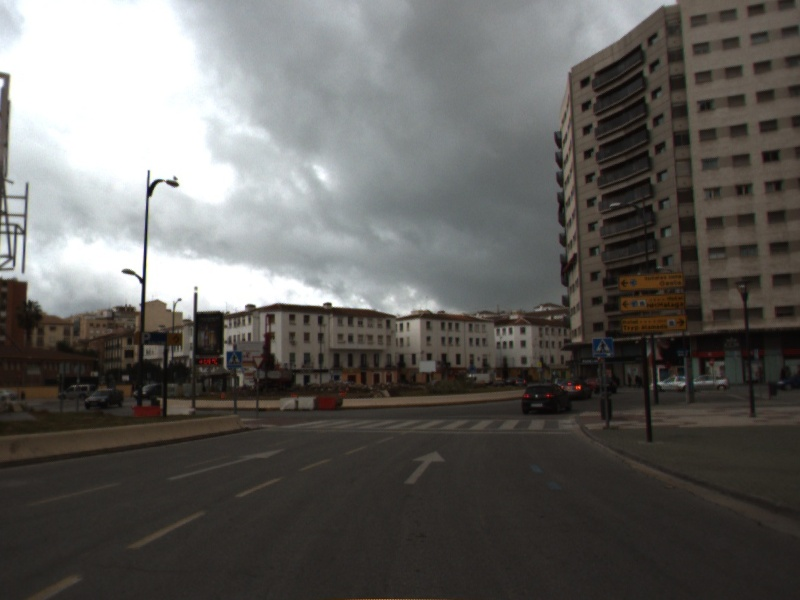STRAIGHT: (164, 447, 287, 483), (401, 448, 448, 486)
